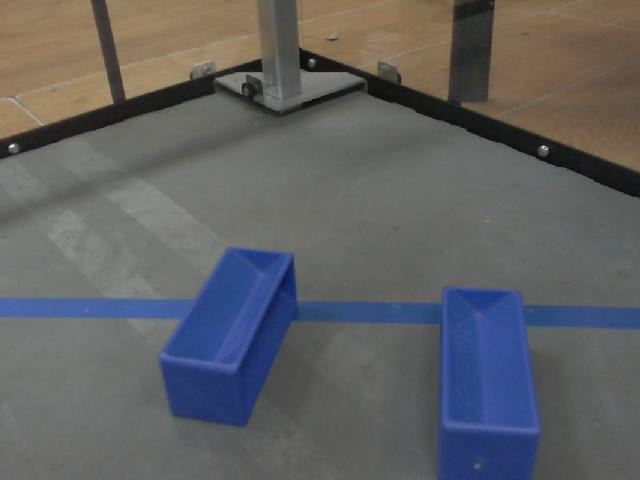BlueSample: (153, 244, 301, 436), (430, 283, 543, 480)
